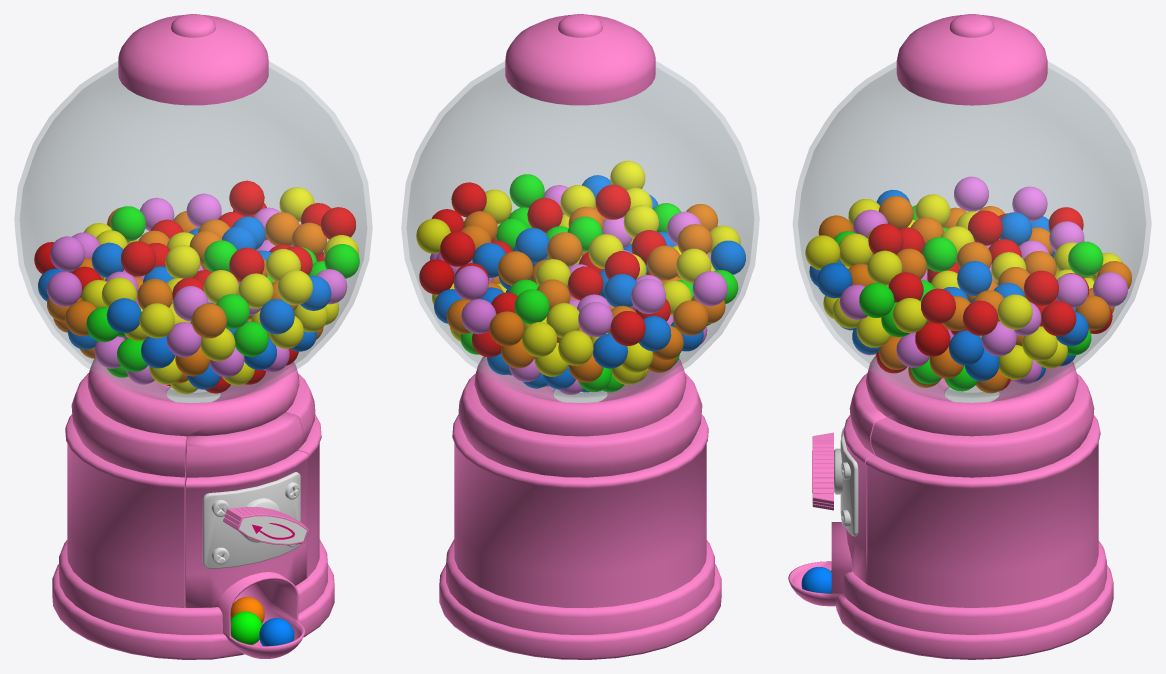
3 renders of one model, left to right at view 1: azimuth 30°, elevation 25°; view 2: azimuth 150°, elevation 25°; view 3: azimuth 270°, elevation 25°, orthographic.
Visible parts, largest first — view 1: CandyMachine_GlassBowl, CandyMachine_Body, CandyMachine_TopCover, CandyMachine_MetalPlate, CandyMachine_Dispencer, CandyMachine_Switch, Candy_Yellow.038, Candy_Pink.019, Candy_Red.013, Candy_Orange.014, Candy_Pink.025, Candy_Yellow.032 (+43 smaller); view 2: CandyMachine_GlassBowl, CandyMachine_Body, CandyMachine_TopCover, Candy_Yellow.030, Candy_Orange.016, Candy_Pink.019, Candy_Red.013, Candy_Orange.042, Candy_Red.031, Candy_Yellow.035, Candy_Pink.025, Candy_Red.014 (+44 smaller); view 3: CandyMachine_GlassBowl, CandyMachine_Body, CandyMachine_TopCover, CandyMachine_Dispencer, CandyMachine_MetalPlate, CandyMachine_Switch, Candy_Yellow.007, Candy_Red.027, Candy_Red.011, Candy_Green.015, Candy_Red.013, Candy_Red.018 (+40 smaller).
Boxes of the visible parts, x1=… form: CandyMachine_GlassBowl: x1=14, y1=61, x2=372, y2=402; CandyMachine_Body: x1=52, y1=359, x2=334, y2=659; CandyMachine_TopCover: x1=118, y1=14, x2=268, y2=105; CandyMachine_MetalPlate: x1=202, y1=472, x2=300, y2=568; CandyMachine_Dispencer: x1=218, y1=572, x2=305, y2=658; CandyMachine_Switch: x1=223, y1=506, x2=308, y2=545; Candy_Yellow.038: x1=139, y1=303, x2=174, y2=338; Candy_Pink.019: x1=46, y1=271, x2=81, y2=306; Candy_Red.013: x1=229, y1=180, x2=264, y2=215; Candy_Orange.014: x1=191, y1=303, x2=226, y2=338; Candy_Pink.025: x1=50, y1=236, x2=85, y2=271; Candy_Yellow.032: x1=277, y1=270, x2=312, y2=305; CandyMachine_GlassBowl: x1=401, y1=61, x2=759, y2=402; CandyMachine_Body: x1=439, y1=356, x2=721, y2=659; CandyMachine_TopCover: x1=505, y1=14, x2=655, y2=105; Candy_Yellow.030: x1=558, y1=330, x2=593, y2=365; Candy_Orange.016: x1=673, y1=300, x2=708, y2=335; Candy_Pink.019: x1=692, y1=271, x2=727, y2=306; Candy_Red.013: x1=440, y1=231, x2=475, y2=266; Candy_Orange.042: x1=489, y1=311, x2=524, y2=346; Candy_Red.031: x1=610, y1=311, x2=645, y2=345; Candy_Yellow.035: x1=522, y1=322, x2=557, y2=357; Candy_Pink.025: x1=631, y1=278, x2=665, y2=313; Candy_Red.014: x1=595, y1=184, x2=630, y2=219; CandyMachine_GlassBowl: x1=793, y1=62, x2=1151, y2=402; CandyMachine_Body: x1=836, y1=355, x2=1113, y2=659; CandyMachine_TopCover: x1=896, y1=14, x2=1047, y2=105; CandyMachine_Dispencer: x1=788, y1=522, x2=852, y2=606; CandyMachine_MetalPlate: x1=834, y1=429, x2=858, y2=536; CandyMachine_Switch: x1=812, y1=432, x2=833, y2=510; Candy_Yellow.007: x1=997, y1=294, x2=1032, y2=329; Candy_Red.027: x1=1041, y1=301, x2=1076, y2=336; Candy_Red.011: x1=963, y1=300, x2=998, y2=335; Candy_Green.015: x1=859, y1=283, x2=894, y2=317; Candy_Red.013: x1=1024, y1=270, x2=1058, y2=305; Candy_Red.018: x1=921, y1=288, x2=955, y2=323.
Size of the model in its own units: 27.65 by 49.49 by 27.98.
5 materials, 2 textured.
